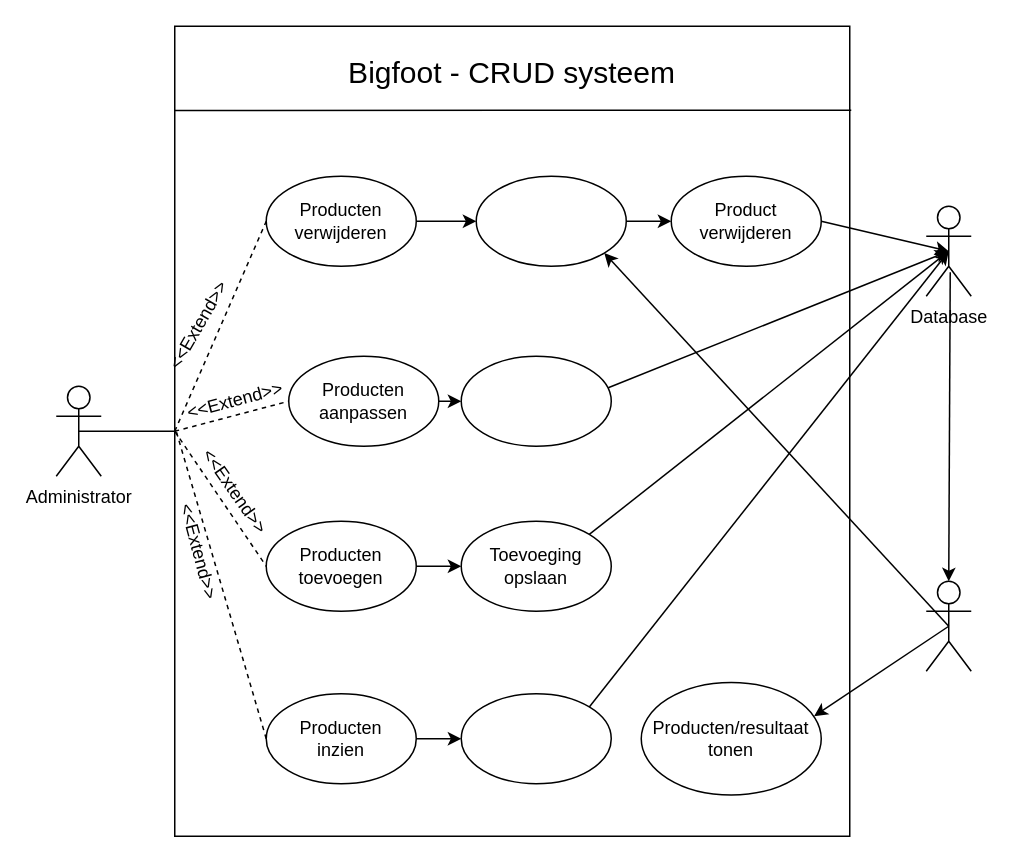
Image size: 1013x863. Some labels were removed from this diagram. The box of each missing label's shape, as (x1, y1, x2, y2) in pixels:
Aanpassing opslaan: (460, 355, 611, 446)
Conformatie melding: (475, 175, 626, 266)
Producten inladen: (460, 692, 611, 784)
Systeem: (925, 580, 971, 671)
